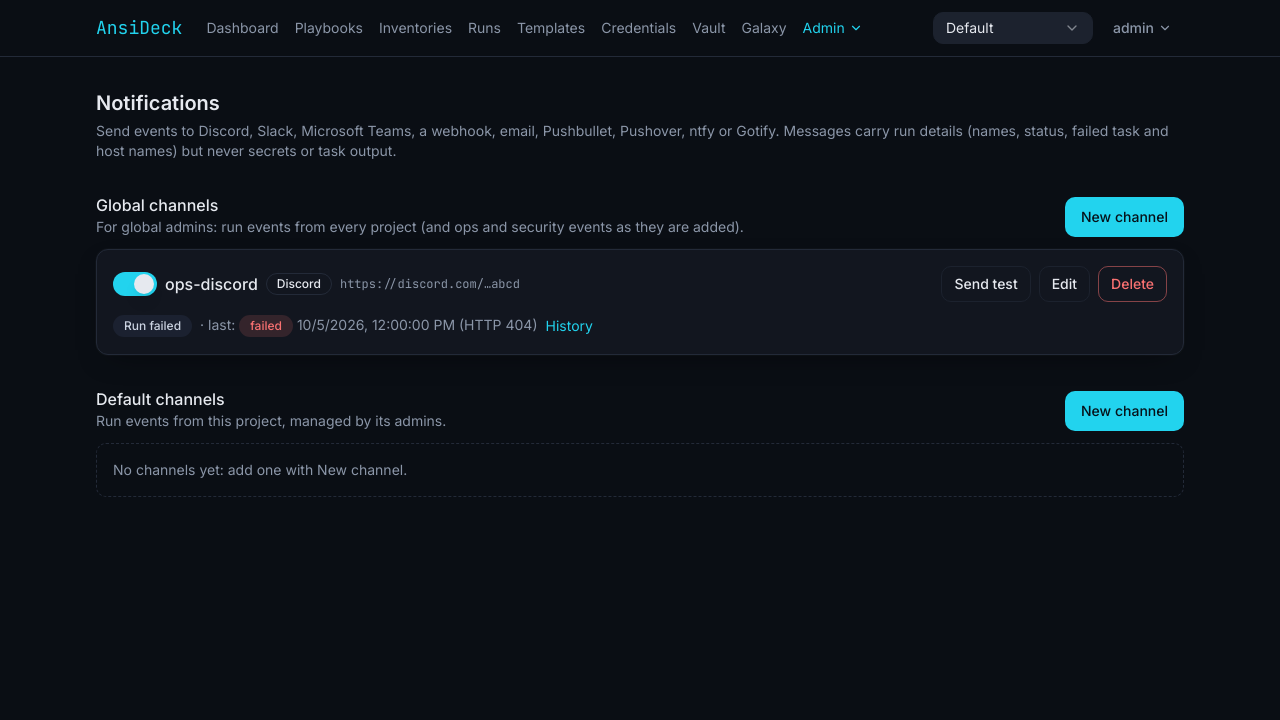
Scenario: notifications › tests, toggles and deletes channels
This screenshot has width=1280, height=720.
Expected: the text "· last: failed 10/5/2026, 12:00:00 PM (HTTP 404)" is shown, 200,315 -> 538,337
Click the button "Send test".
click(986, 284)  # box 941,266 -> 1031,302
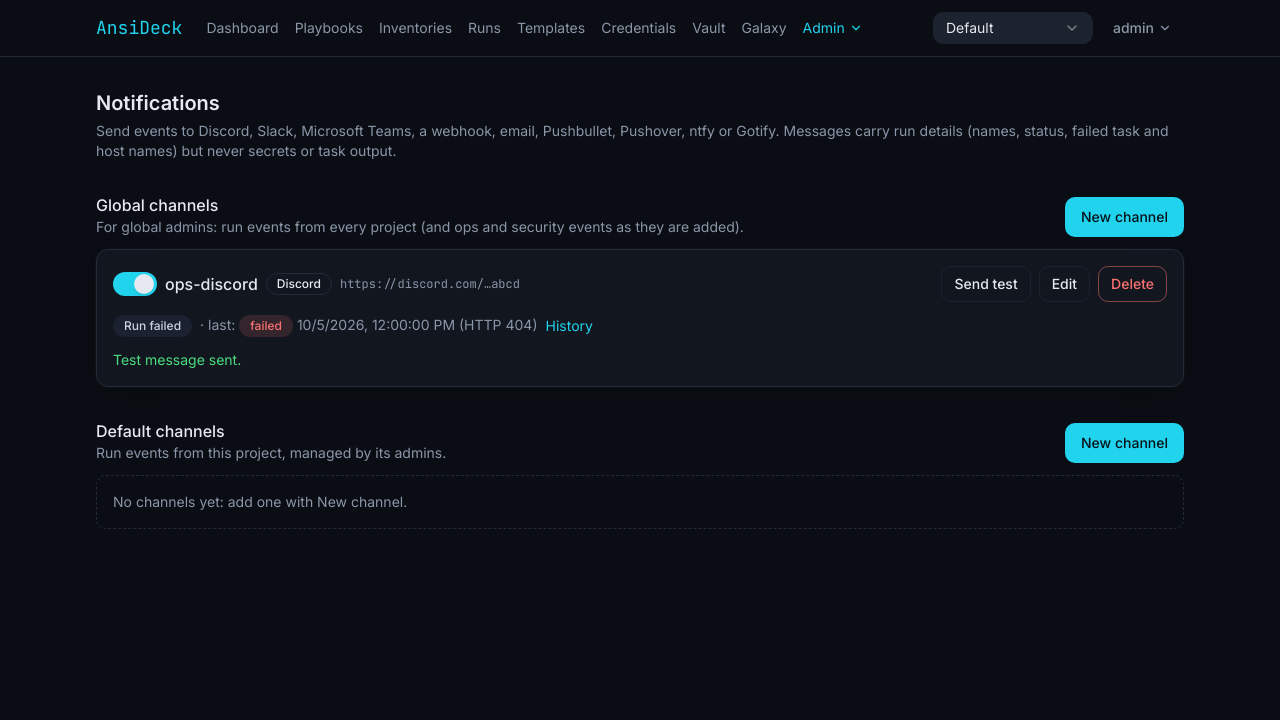
Result: the text "Test message sent." is shown at 113,351 -> 241,368
Click the button "Send test".
click(986, 284)  # box 941,266 -> 1031,302
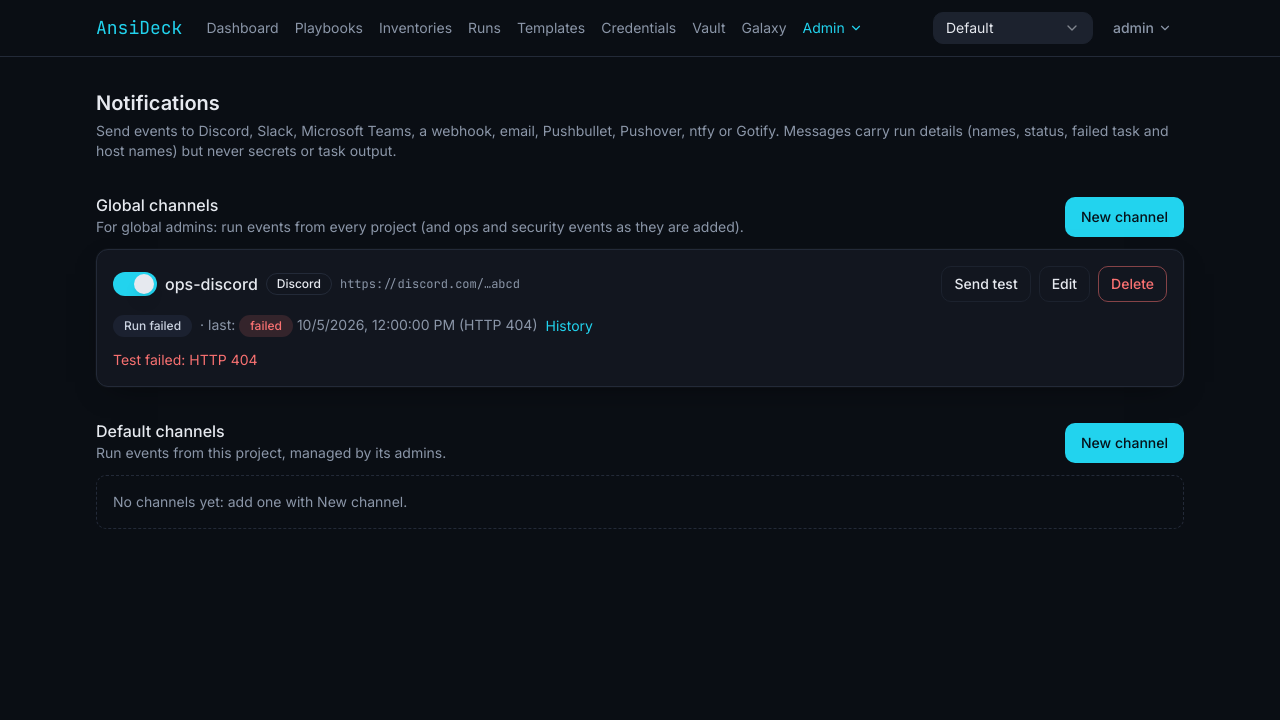
Result: the text "Test failed: HTTP 404" is shown at 113,351 -> 258,368
Click the button "Send test".
click(986, 284)  # box 941,266 -> 1031,302
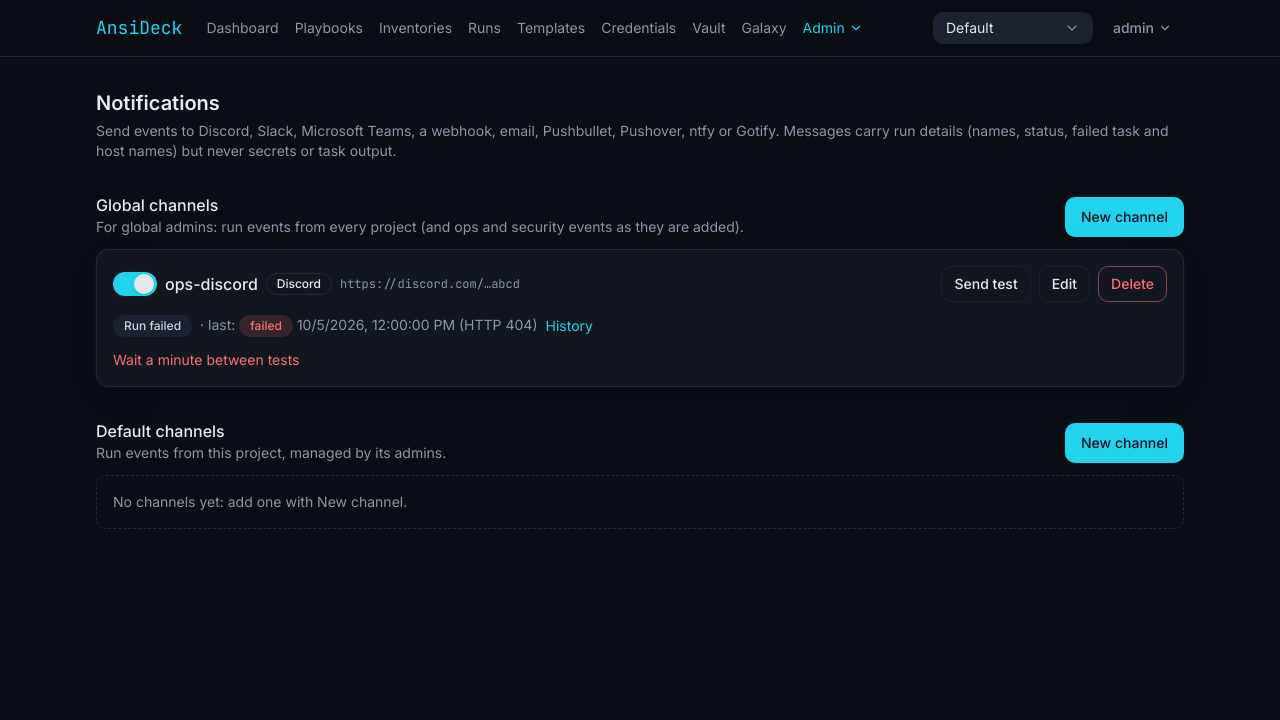
Result: the text "Wait a minute between tests" is shown at 113,351 -> 300,368
Click the switch named "Turn off".
click(135, 284)  # box 113,272 -> 157,296
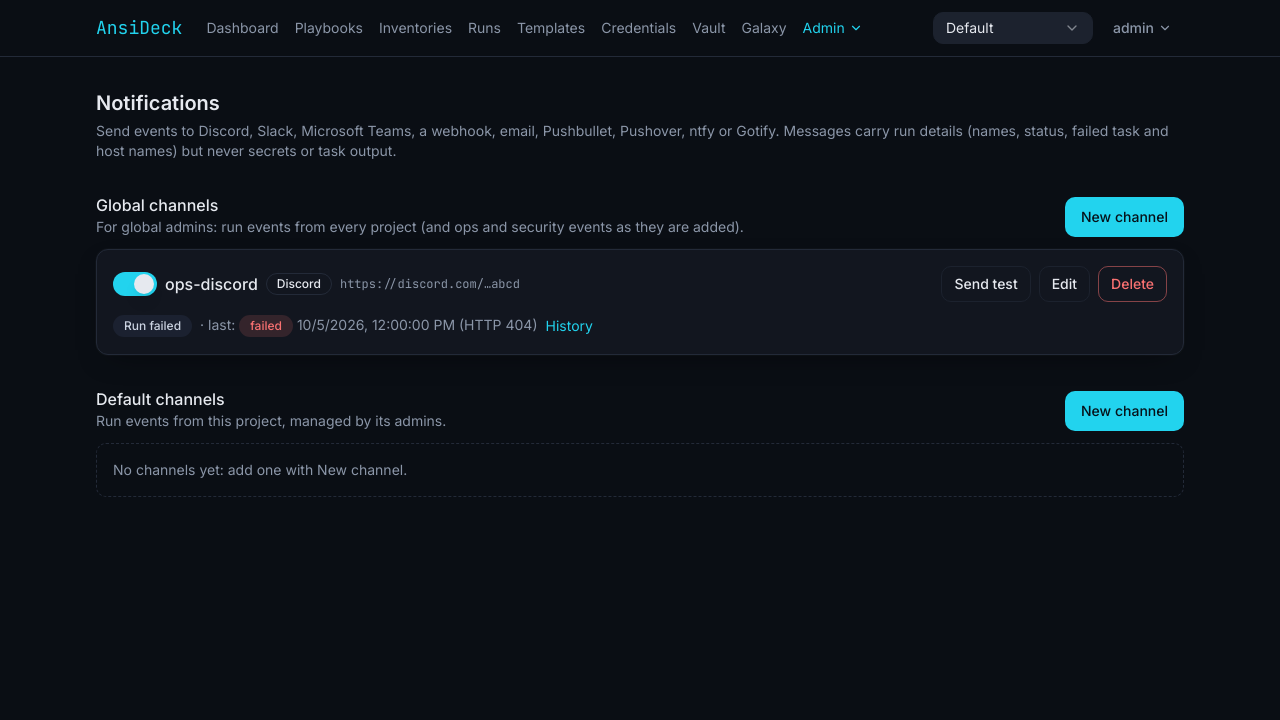
Click the button "Delete".
click(1133, 284)  # box 1098,266 -> 1167,302
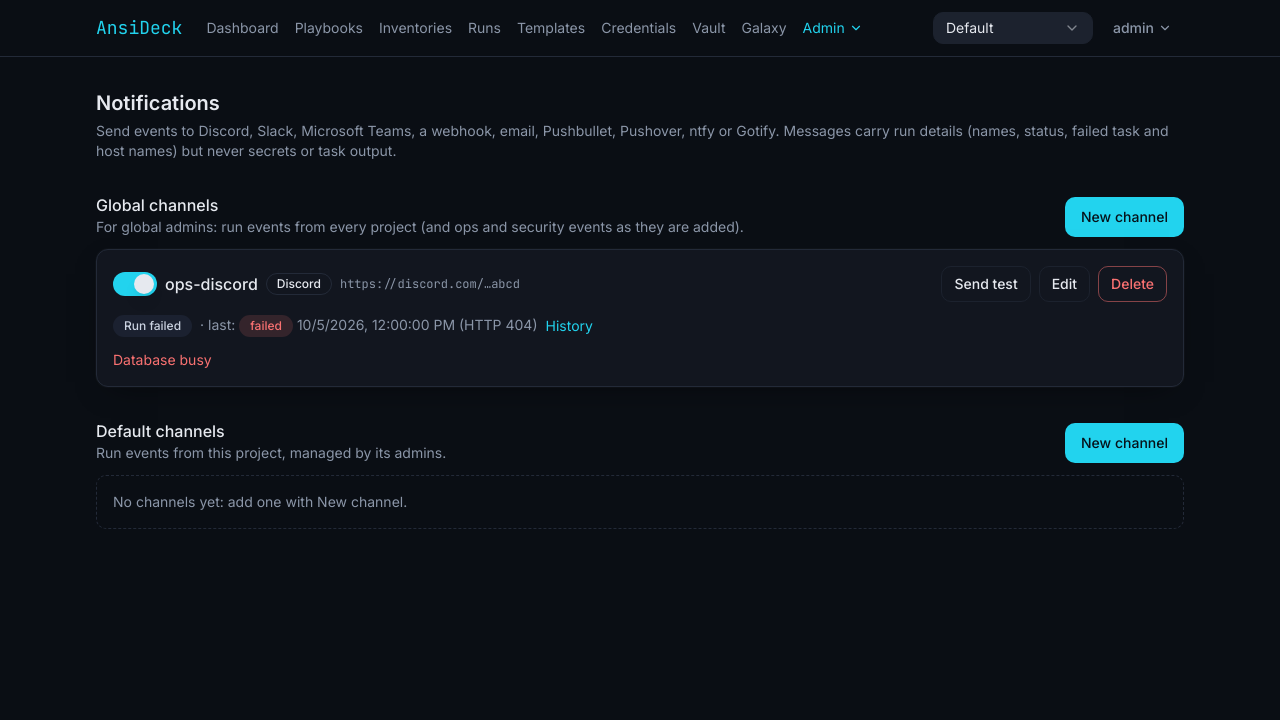
Result: the text "Database busy" is shown at 113,351 -> 212,368
